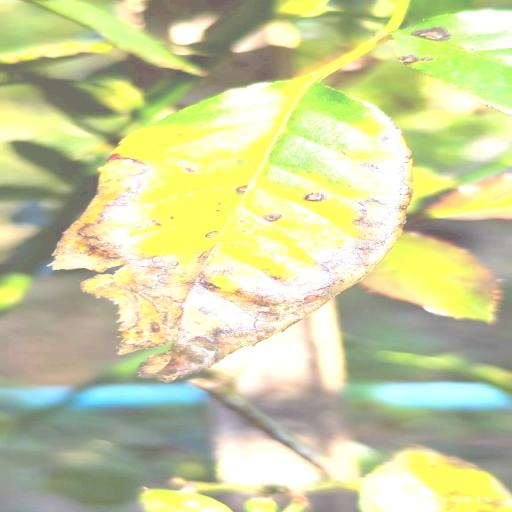thrip: (54, 64, 410, 381)
